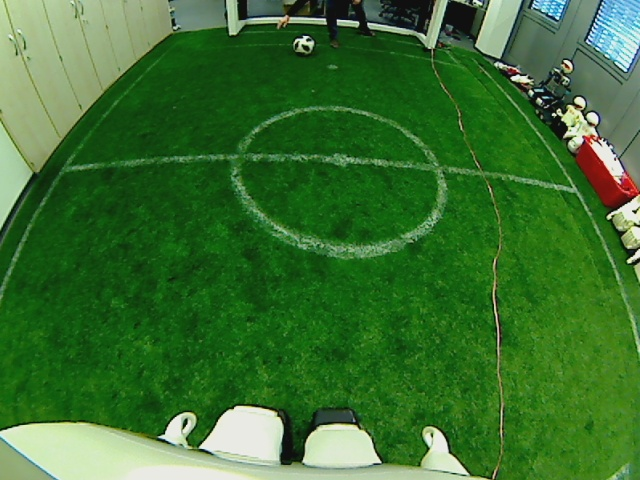ball: (292, 34, 315, 55)
